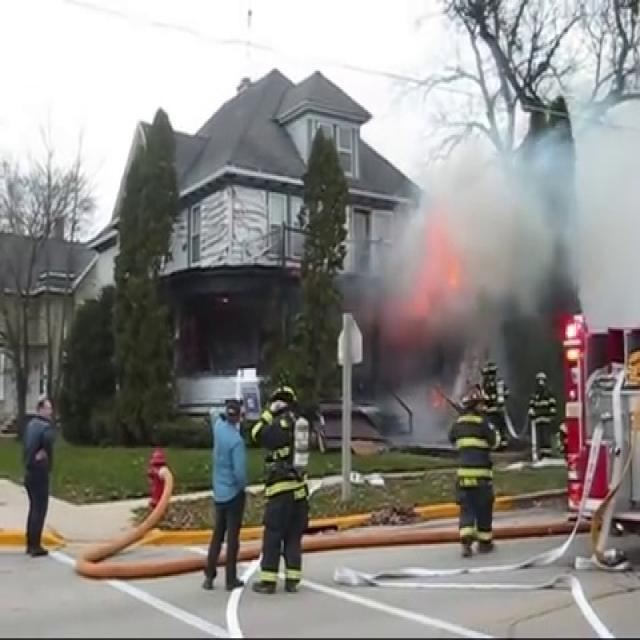Smoke: (356, 2, 640, 420)
